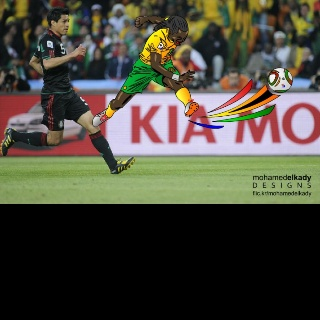without_mask: (54, 14, 70, 35)
